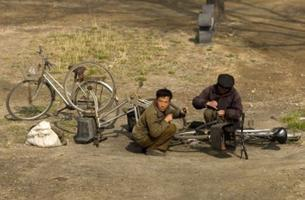person: (193, 74, 245, 129)
